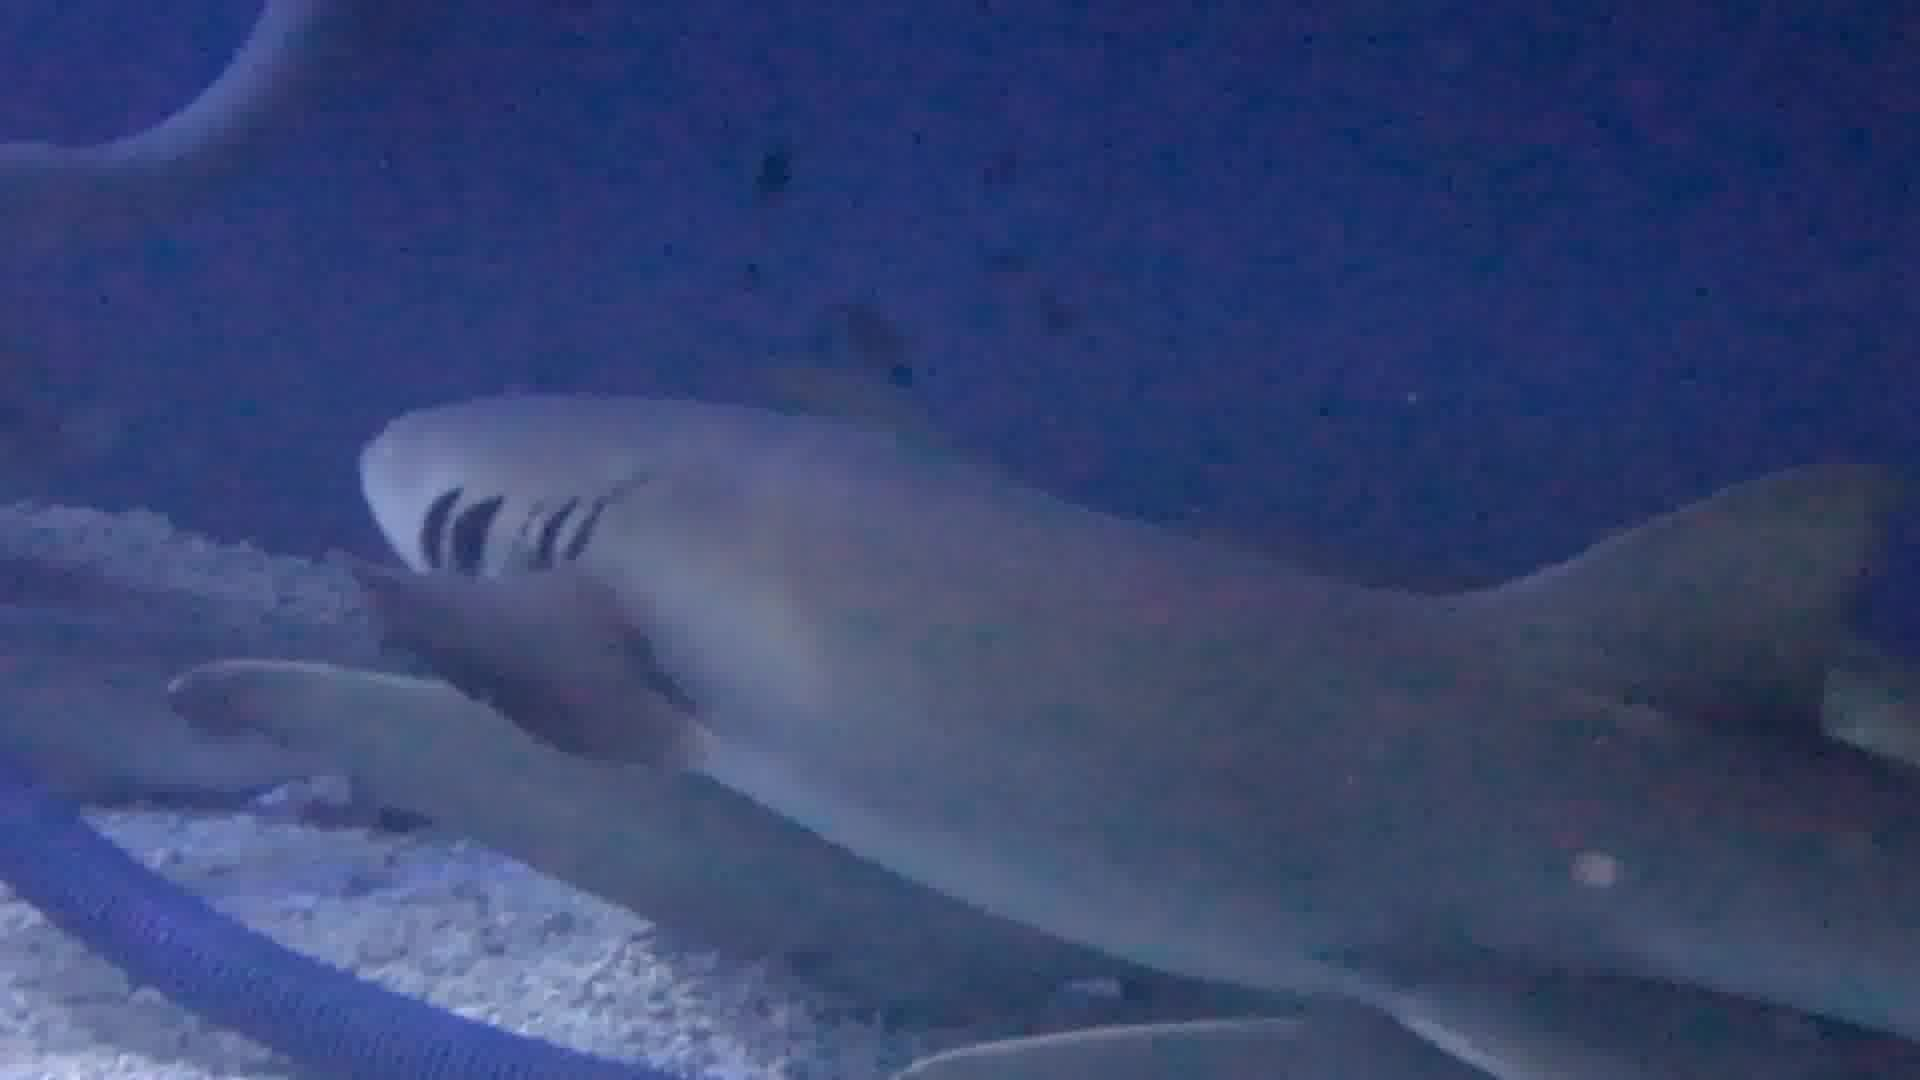Nebrius ferrugineus: (342, 327, 1895, 1055)
